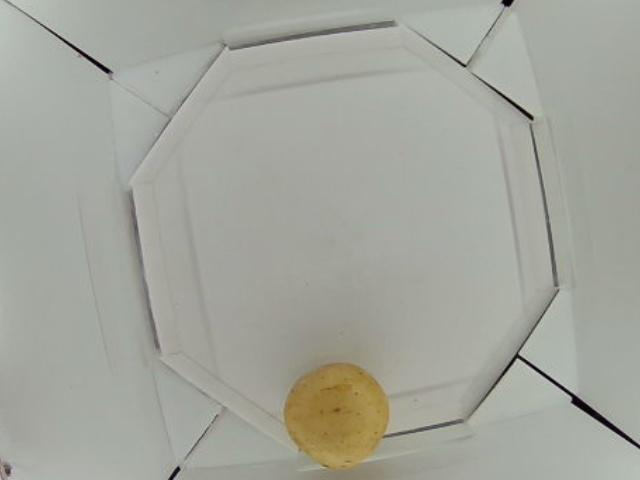Potato: (289, 362, 388, 472)
